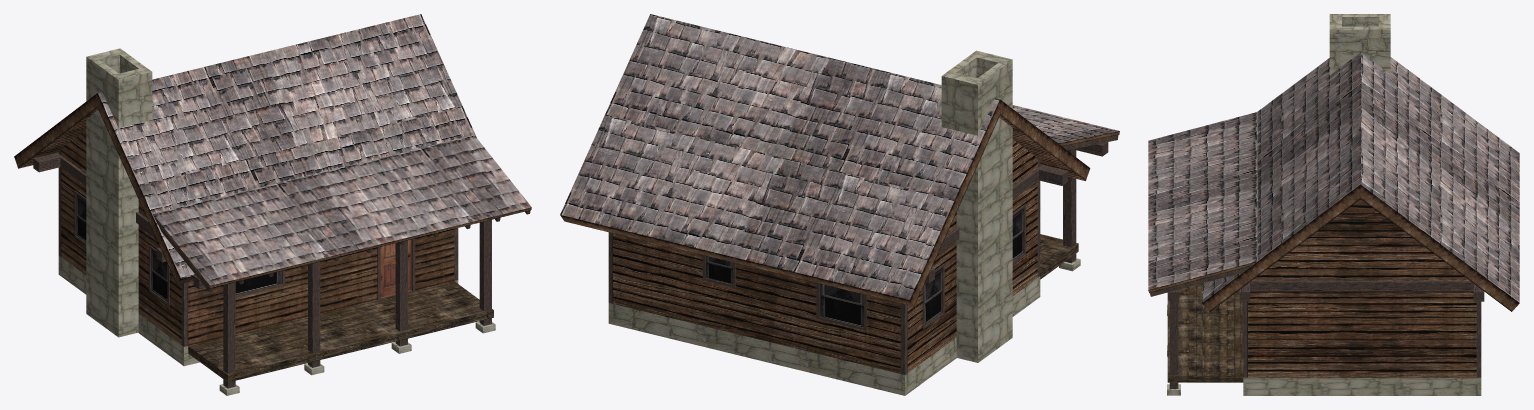
File: Old_Log_Cabin.fbx
3 renders of one model, left to right at view 1: azimuth 30°, elevation 25°; view 2: azimuth 150°, elevation 25°; view 3: azimuth 270°, elevation 25°, orthographic. The views are drawn at different scales.
Parts seen in each view (by area): view 1: OldLogCabin_Geo; view 2: OldLogCabin_Geo; view 3: OldLogCabin_Geo.
Part boxes in pixels (x1=…): OldLogCabin_Geo: x1=14, y1=14, x2=531, y2=395; OldLogCabin_Geo: x1=560, y1=14, x2=1119, y2=395; OldLogCabin_Geo: x1=1148, y1=14, x2=1519, y2=395.
Size of the model in its own units: 9.03 by 6.9 by 9.43.
Materials: 9 (8 with a texture image).
